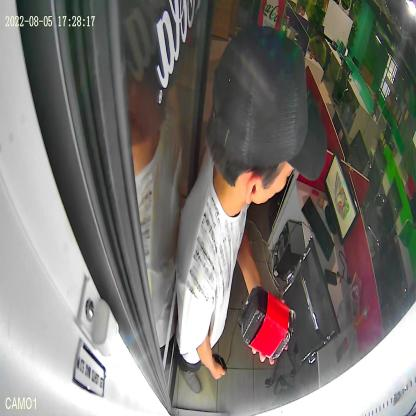red: (237, 286, 297, 360)
